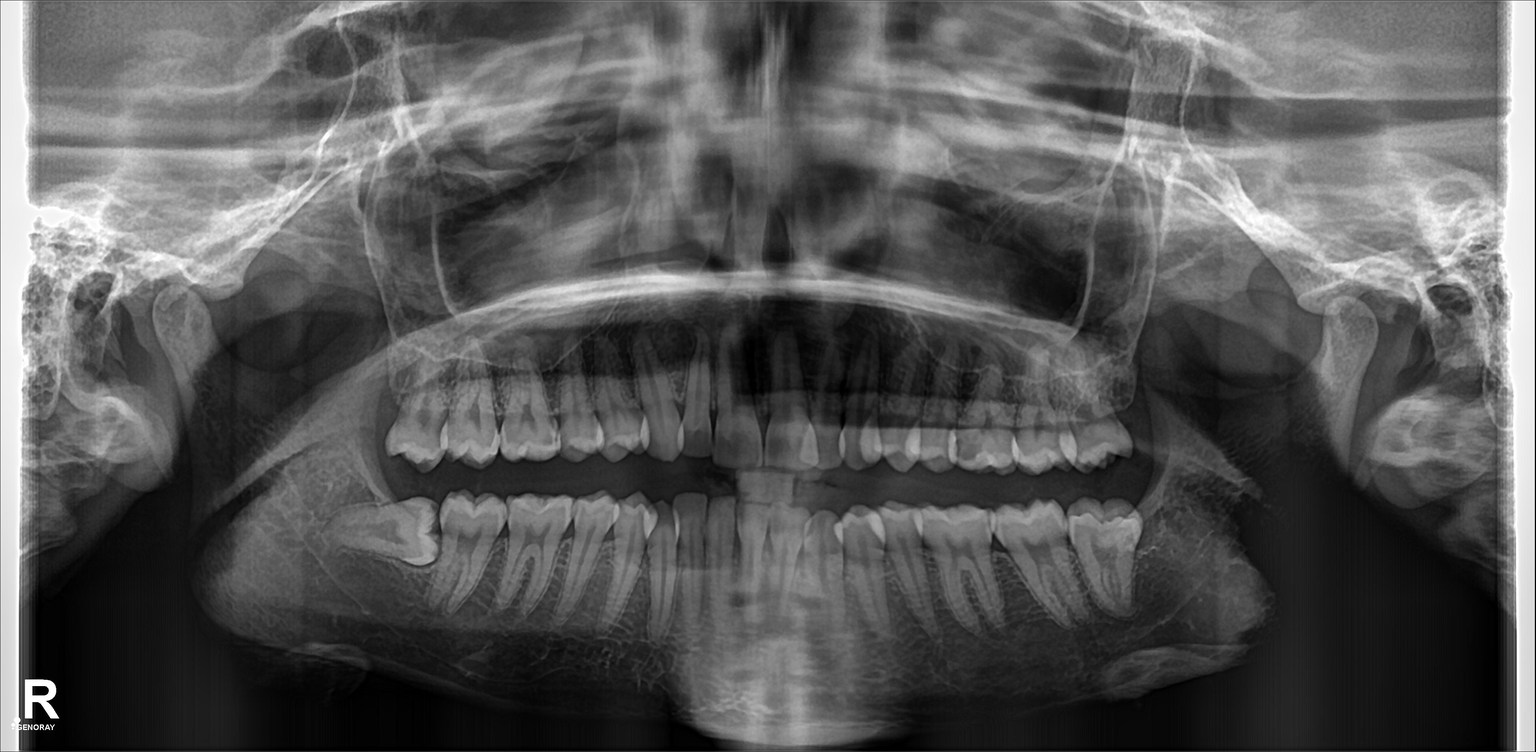Dental Caries: (713, 434, 761, 460), (773, 436, 810, 469), (680, 421, 714, 456)
Impacted Third Molar: (333, 497, 444, 563)
